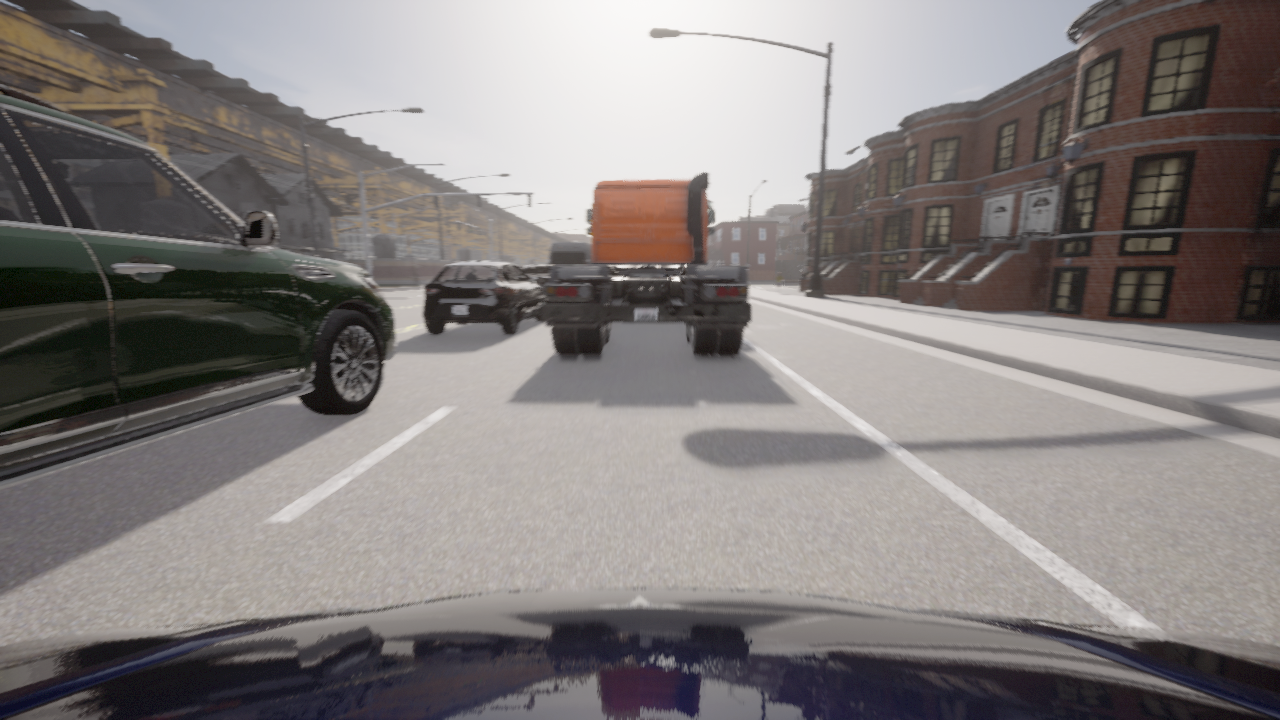cyclist: (0, 588, 1279, 719), (542, 172, 750, 354), (423, 261, 546, 334), (548, 242, 591, 264), (522, 264, 555, 287)
pedestrian: (776, 272, 782, 293)
